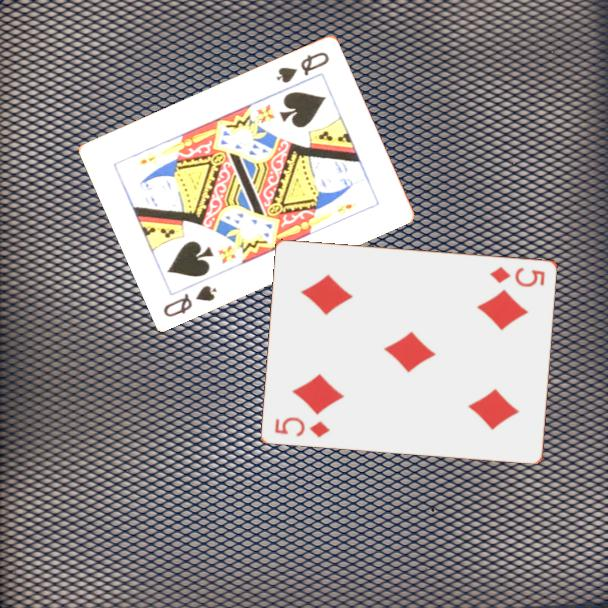d05: (271, 413, 333, 440), (487, 263, 548, 290)
s12: (160, 281, 220, 320), (273, 48, 332, 86)
